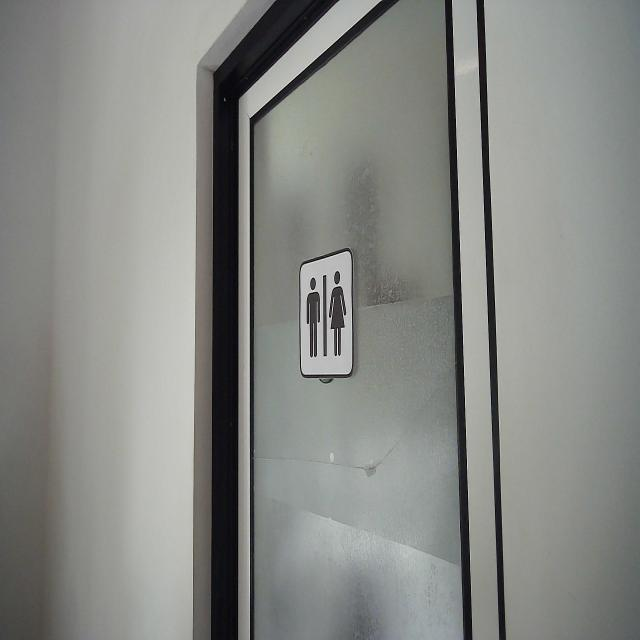restroom: (297, 244, 356, 382)
